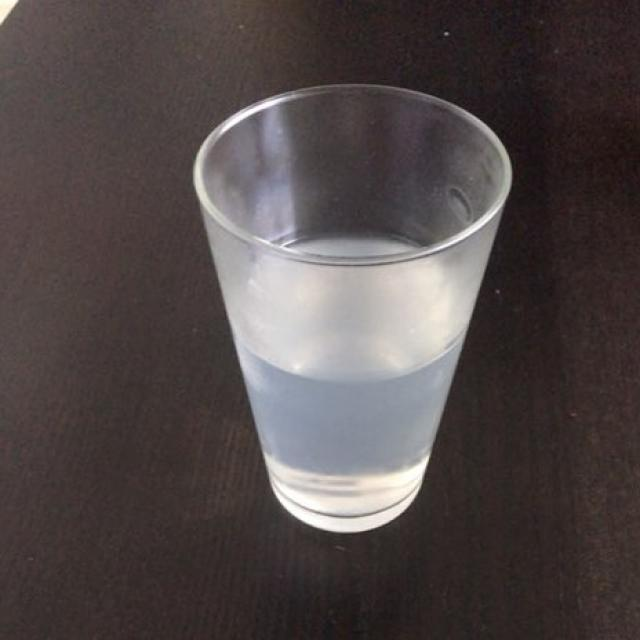drink: (222, 240, 457, 515)
